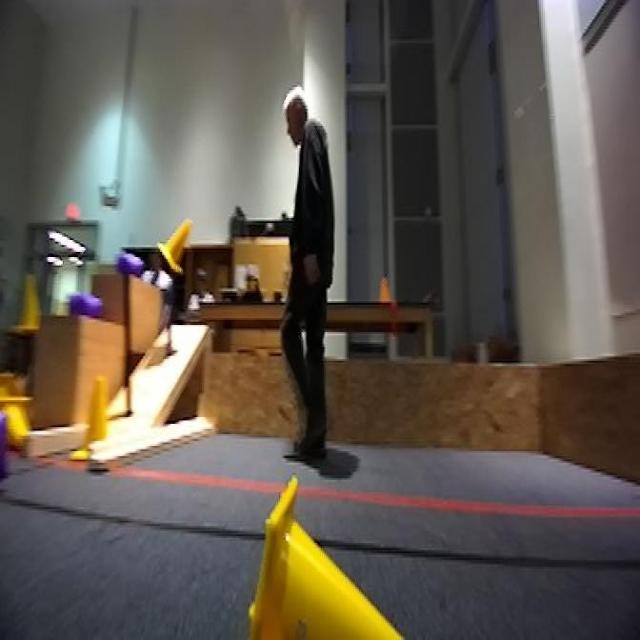frc_cone: (242, 471, 428, 640), (76, 373, 112, 461), (155, 220, 197, 278), (14, 270, 42, 328), (5, 391, 33, 446), (0, 363, 26, 400)
frc_cube: (67, 286, 106, 317), (112, 249, 144, 279)
